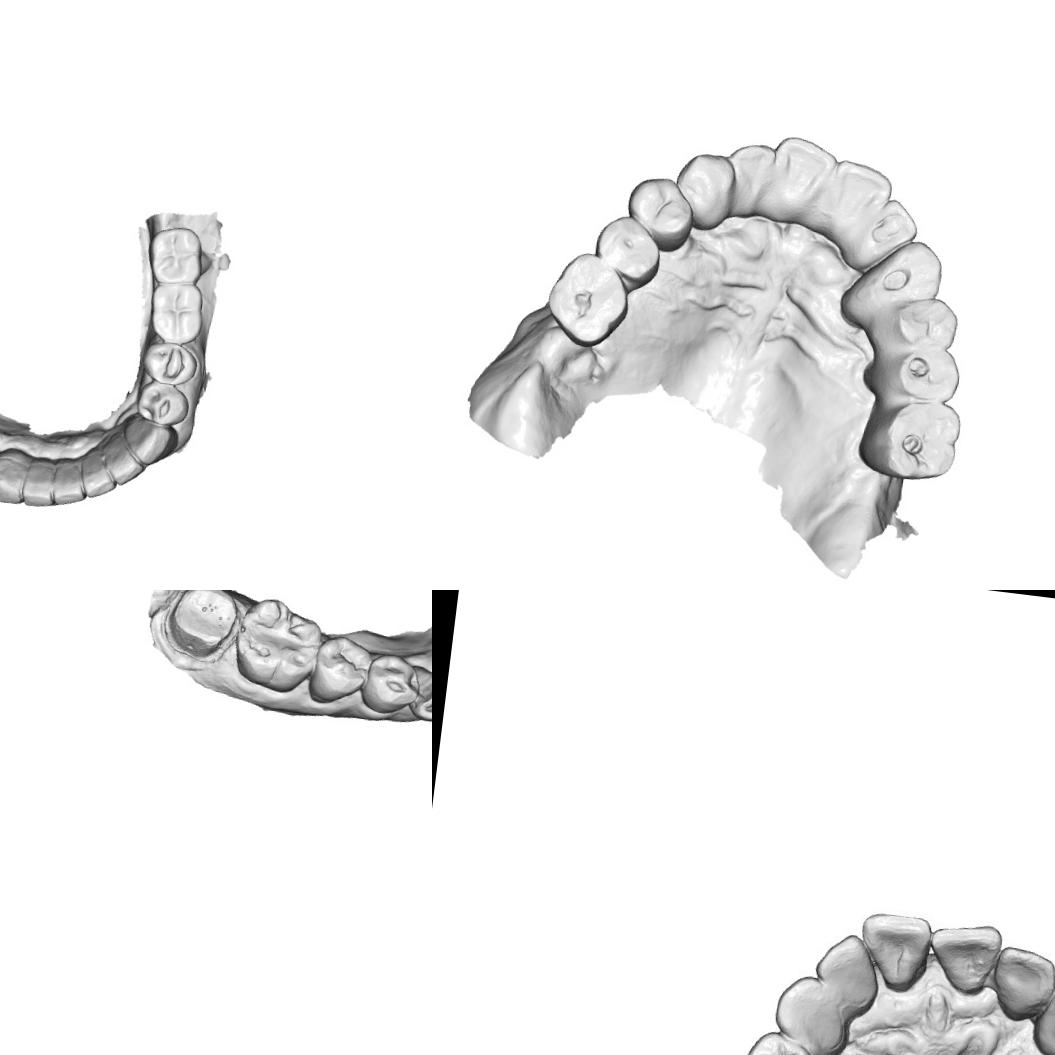canine: (855, 233, 946, 318), (771, 972, 852, 1055), (671, 148, 739, 226), (120, 416, 180, 470), (1028, 972, 1055, 1055), (0, 443, 34, 507), (405, 662, 432, 725)
crown: (156, 590, 247, 666)
incisor: (930, 918, 1004, 1000), (814, 930, 884, 1011), (857, 908, 929, 986), (766, 133, 839, 209), (817, 156, 896, 220), (993, 948, 1055, 1021), (864, 194, 922, 253), (724, 140, 776, 205), (19, 452, 63, 512), (101, 441, 148, 490), (76, 452, 120, 504), (49, 460, 90, 510)
molar: (850, 391, 964, 486), (227, 592, 324, 700), (543, 246, 633, 351), (144, 278, 210, 348), (142, 220, 208, 290)
premolar: (866, 337, 966, 408), (619, 172, 700, 254), (872, 288, 964, 355), (590, 212, 663, 287), (309, 631, 373, 709), (358, 650, 421, 718), (138, 337, 202, 389), (131, 379, 192, 430), (743, 1031, 817, 1055)
